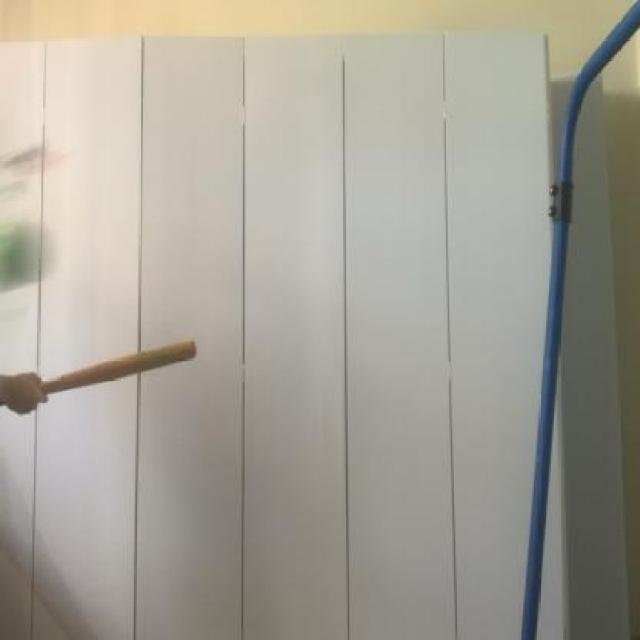baseball: (0, 202, 63, 289)
